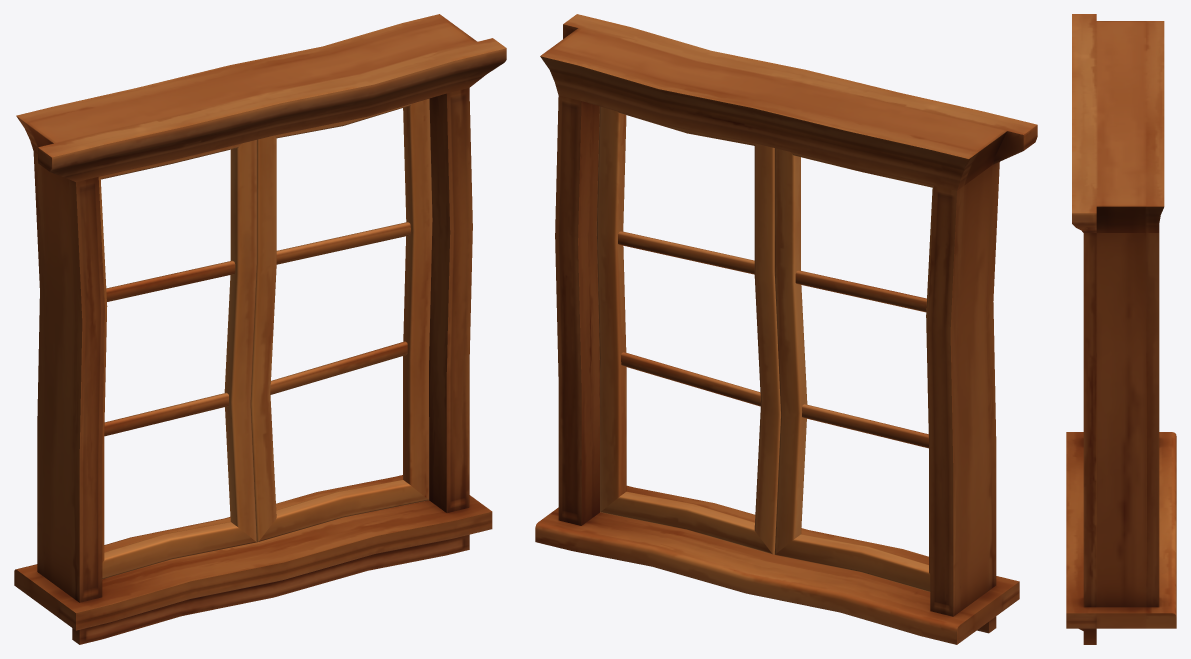
The model's file is PropWindow01TypeE_2_2.FBX.
3 renders of one model, left to right at view 1: azimuth 30°, elevation 25°; view 2: azimuth 150°, elevation 25°; view 3: azimuth 270°, elevation 25°, orthographic. The views are drawn at different scales.
Visible parts, largest first — view 1: PropWindow01TypeE_2_2; view 2: PropWindow01TypeE_2_2; view 3: PropWindow01TypeE_2_2.
Boxes of the visible parts, x1,y1,x2,y2 form: PropWindow01TypeE_2_2: (14, 14, 506, 644); PropWindow01TypeE_2_2: (535, 14, 1037, 644); PropWindow01TypeE_2_2: (1066, 14, 1176, 644).
Size of what is drawn, in the model's own units: 1.89 by 1.99 by 0.4449.
